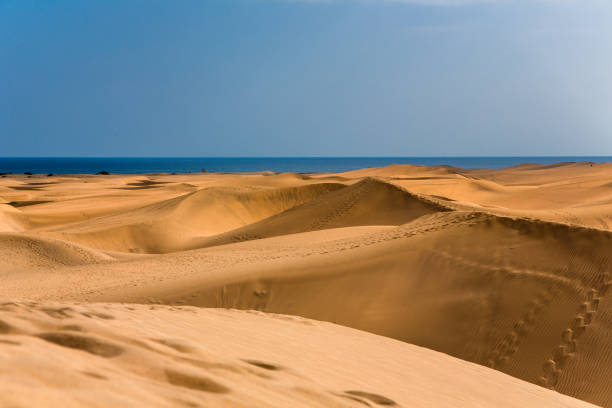human_footprint: (99, 216, 475, 280), (539, 261, 606, 390), (48, 329, 150, 361), (163, 368, 234, 394), (342, 385, 402, 408), (246, 356, 294, 378), (164, 337, 206, 356), (0, 320, 28, 345)
